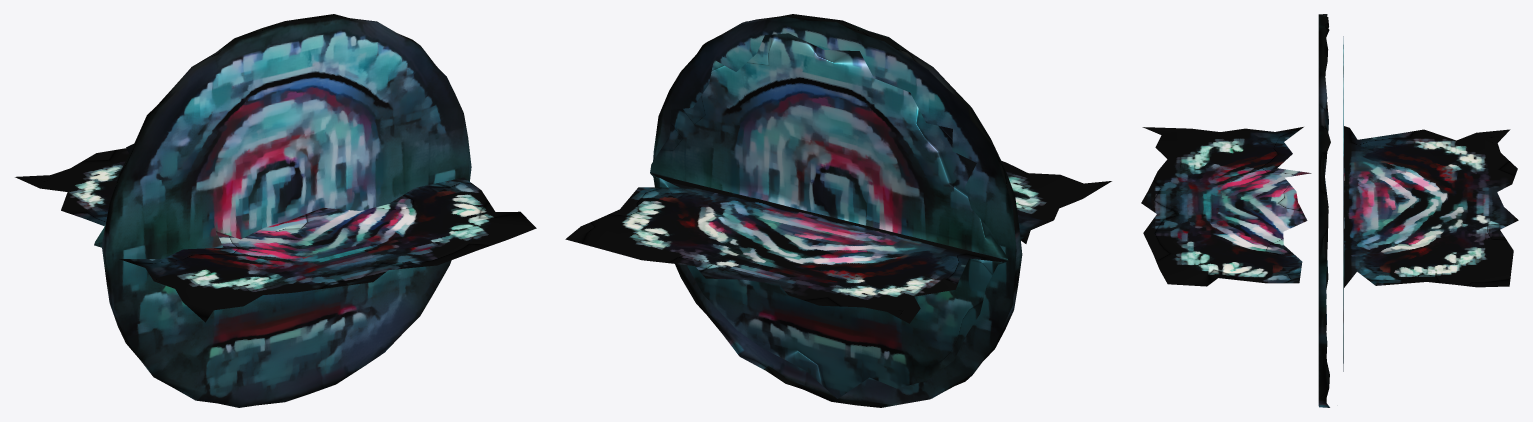
Rendered from weapon-spectral-disc.glb.
3 views of the same model, side by side, from view 1: azimuth 30°, elevation 25°; view 2: azimuth 150°, elevation 25°; view 3: azimuth 270°, elevation 25° (orthographic). The views are drawn at different scales.
Visible parts, largest first — view 1: geometry_0; view 2: geometry_0; view 3: geometry_0.
Boxes of the visible parts, x1,y1,x2,y2 form: geometry_0: (15, 14, 536, 407); geometry_0: (565, 14, 1111, 407); geometry_0: (1141, 14, 1518, 407).
Size of the model in its own units: 0.9959 by 0.9867 by 0.9549.
Materials: 1 (1 with a texture image).
